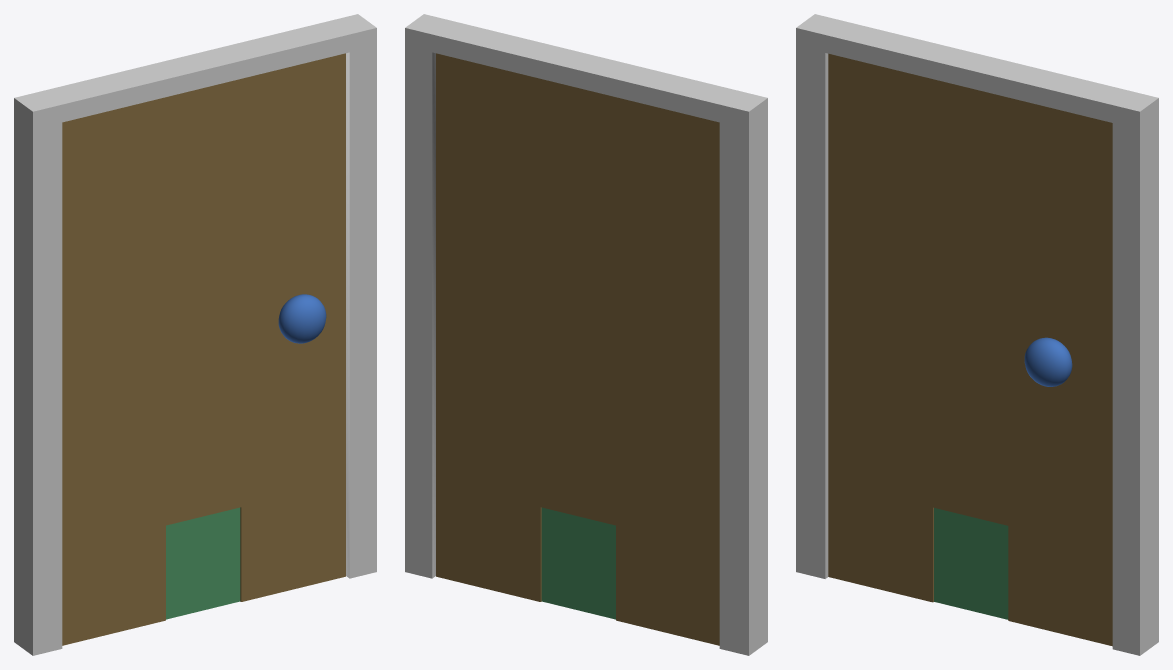
File: DoorAnimation.dae
3 renders of one model, left to right at view 1: azimuth 30°, elevation 25°; view 2: azimuth 150°, elevation 25°; view 3: azimuth 330°, elevation 25°, orthographic.
Visible parts, largest first — view 1: door, doorframe, doggydoor, doorknob; view 2: door, doorframe, doggydoor; view 3: door, doorframe, doggydoor, doorknob.
Boxes of the visible parts, x1,y1,x2,y2 form: door: (62,53,345,645); doorframe: (14,14,376,655); doggydoor: (166,507,240,619); doorknob: (278,294,326,343); door: (436,53,719,645); doorframe: (405,14,767,655); doggydoor: (541,507,615,619); door: (828,53,1112,646); doorframe: (796,14,1158,655); doggydoor: (934,508,1008,619); doorknob: (1024,337,1072,386).
Size of the model in its own units: 1.36 by 2.06 by 0.2525.
